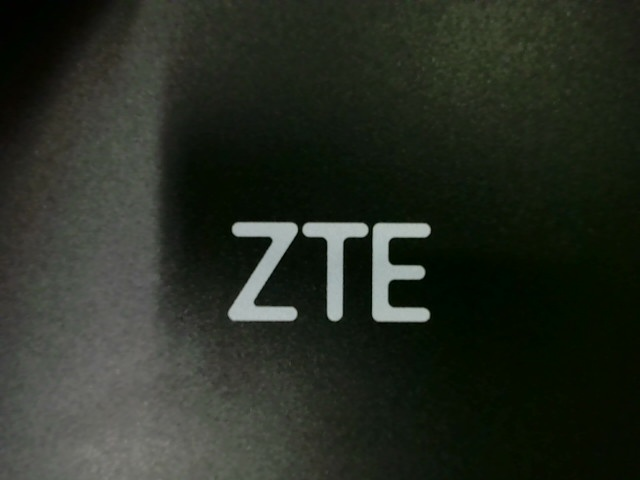AN_ZTE: (213, 212, 436, 330)
